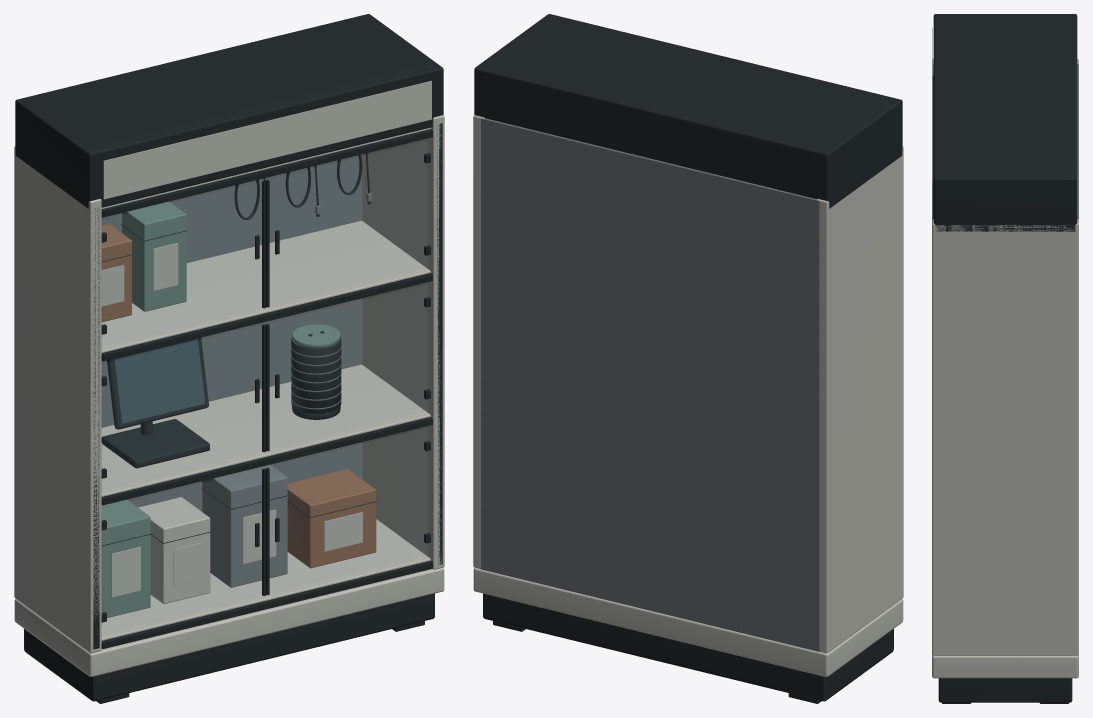
The picture shows the model from 3 angles, left to right: view 1: azimuth 30°, elevation 25°; view 2: azimuth 150°, elevation 25°; view 3: azimuth 270°, elevation 25°; orthographic projection. The views are drawn at different scales.
Visible parts, largest first — view 1: BATCH_Ceramic, BATCH_Graphite; view 2: BATCH_Ceramic, BATCH_Graphite; view 3: BATCH_Ceramic, BATCH_Graphite.
Boxes of the visible parts, <box> form: BATCH_Ceramic: <box>14,81,444,676</box>; BATCH_Graphite: <box>15,14,443,703</box>; BATCH_Ceramic: <box>473,115,903,676</box>; BATCH_Graphite: <box>474,14,902,703</box>; BATCH_Ceramic: <box>932,28,1078,678</box>; BATCH_Graphite: <box>932,14,1077,703</box>.
Bounding box in the file's own units: 1.2 × 1.8 × 0.45.
